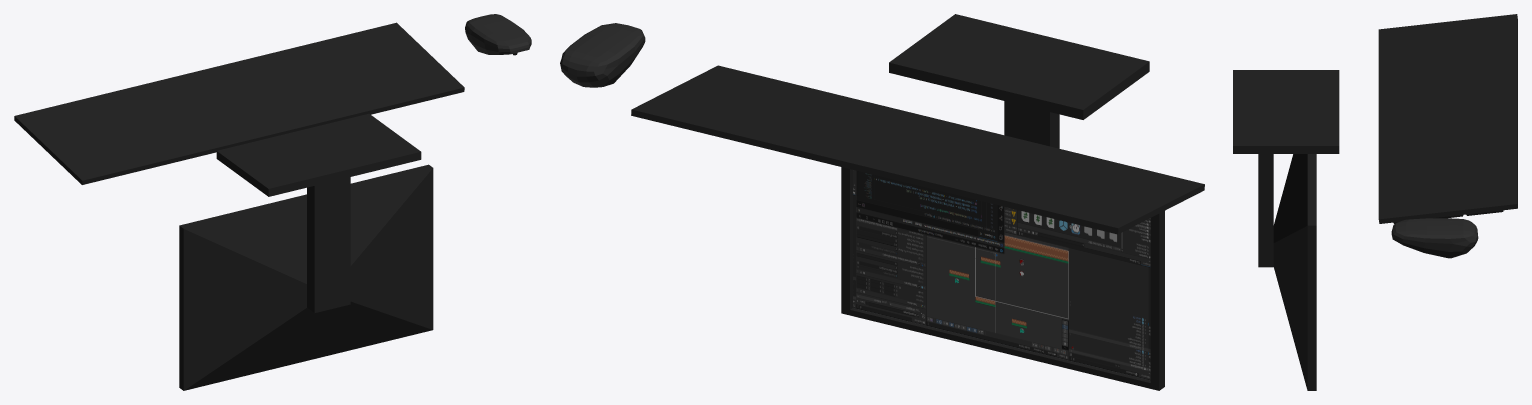
File: AR-stamprally-Unity競争.glb
3 views of the same model, side by side, from view 1: azimuth 30°, elevation 25°; view 2: azimuth 150°, elevation 25°; view 3: azimuth 270°, elevation 25° (orthographic). The views are drawn at different scales.
Parts seen in each view (by area): view 1: 立方体.001; view 2: 立方体.001; view 3: 立方体.001.
Boxes of the visible parts, <box> form: 立方体.001: <box>14,14,531,390</box>; 立方体.001: <box>560,14,1204,390</box>; 立方体.001: <box>1233,14,1517,390</box>.
Bounding box in the file's own units: 6.08 × 2.82 × 3.17.
5 materials, 1 textured.
